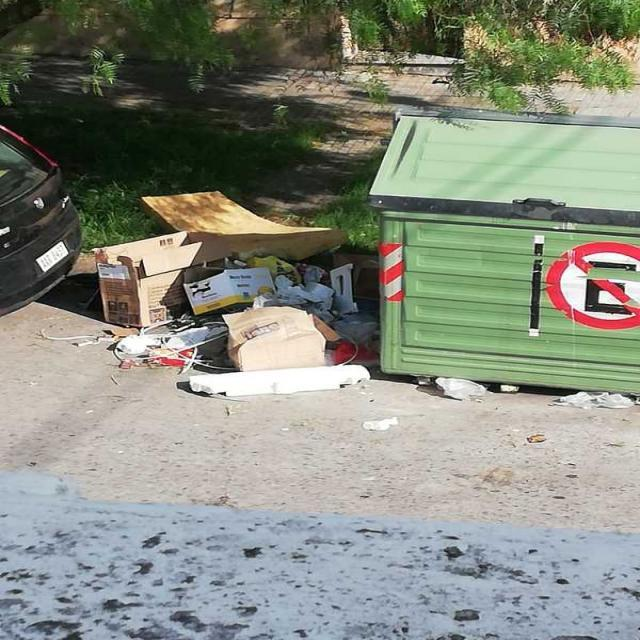garbage: (50, 134, 372, 403), (403, 369, 637, 441), (352, 408, 409, 438)
